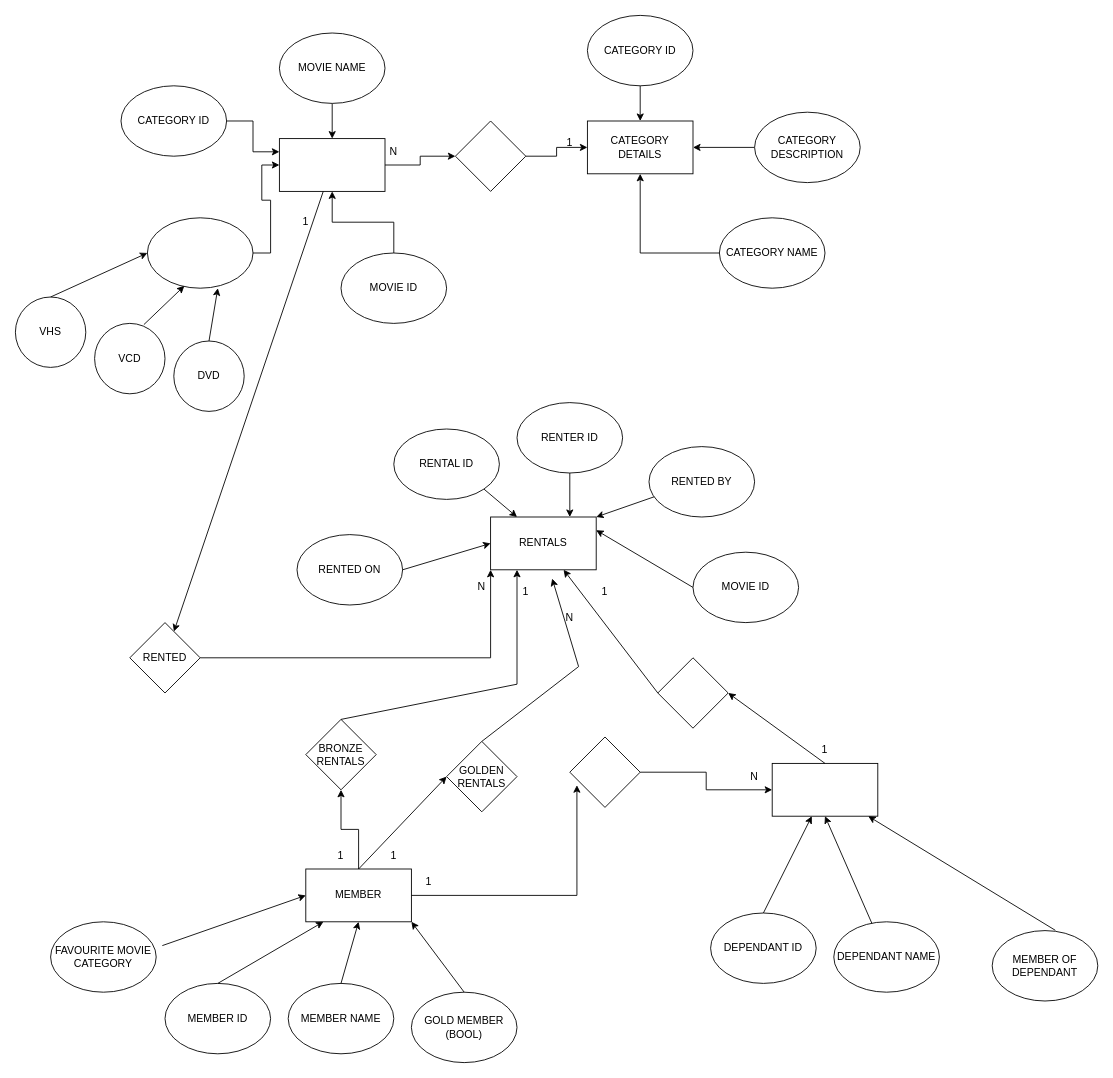
This 1113x1078 diagram has some shape labels left out. Here are the shapes that lost their labels. From the top down, the centre of each, then its label:
the point at 332,164: MOVIES
the point at 490,155: CONTAINS
the point at 200,252: MOVIE FORMAT
the point at 692,692: RENT
the point at 604,771: SHARES
the point at 824,789: DEPENDANT
